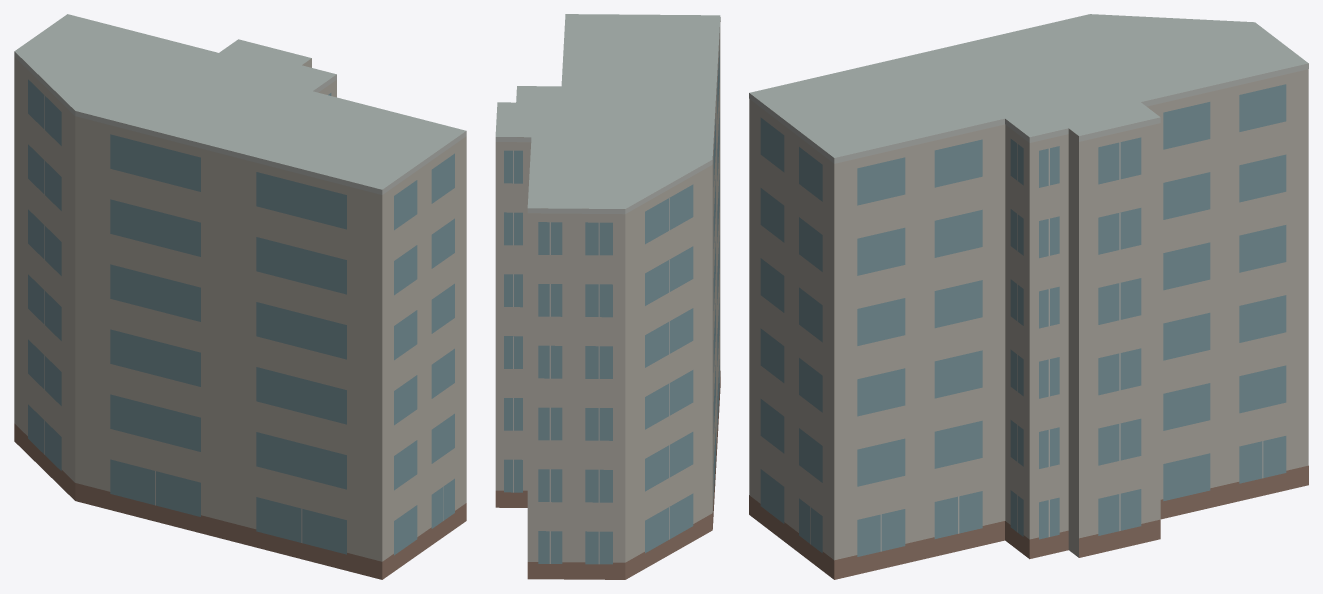
Rendered from survey-upis-32539502.glb.
3 renders of one model, left to right at view 1: azimuth 30°, elevation 25°; view 2: azimuth 150°, elevation 25°; view 3: azimuth 270°, elevation 25°, orthographic. The views are drawn at different scales.
Parts seen in each view (by area): view 1: survey-upis-32539502.tmp; view 2: survey-upis-32539502.tmp; view 3: survey-upis-32539502.tmp.
Boxes of the visible parts, box(x1,y1,x2,y2) form: survey-upis-32539502.tmp: box(14, 14, 466, 579); survey-upis-32539502.tmp: box(495, 14, 720, 579); survey-upis-32539502.tmp: box(749, 14, 1308, 579).
Bounding box in the file's own units: 13.05 × 17.8 × 21.41.
